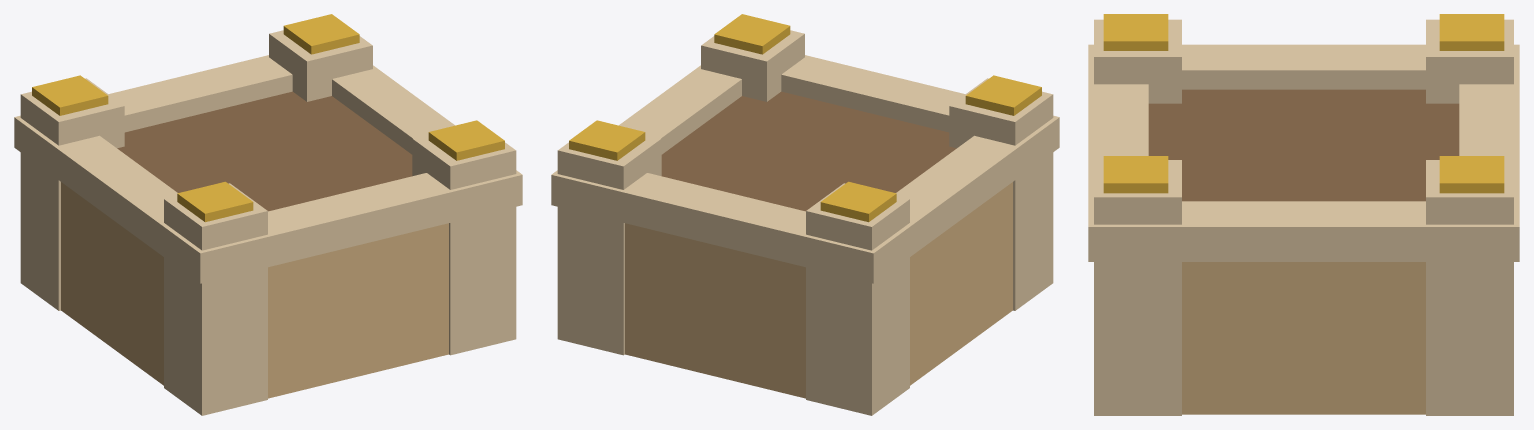
Rendered from planter-bed.lod1.glb.
The picture shows the model from 3 angles, left to right: view 1: azimuth 30°, elevation 25°; view 2: azimuth 150°, elevation 25°; view 3: azimuth 270°, elevation 25°; orthographic projection. The views are drawn at different scales.
Parts seen in each view (by area): view 1: planter-bed_lod1; view 2: planter-bed_lod1; view 3: planter-bed_lod1.
Part boxes in pixels (x1,y1,x2,y2): planter-bed_lod1: [14, 14, 522, 415]; planter-bed_lod1: [551, 14, 1059, 415]; planter-bed_lod1: [1088, 14, 1519, 415].
Size of the model in its own units: 1 by 0.585 by 1.
